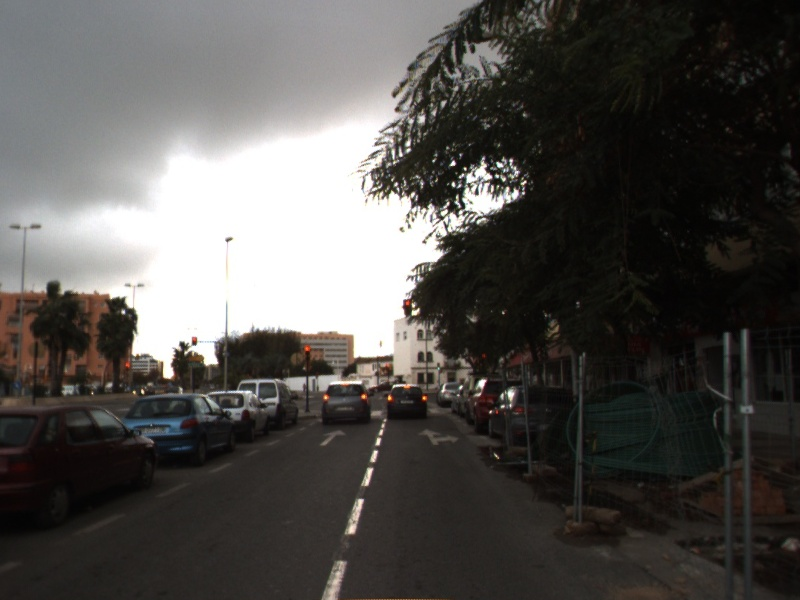STRAIGHT: (318, 428, 347, 447)
STRAIGHT_RIGHT: (416, 426, 461, 446)
